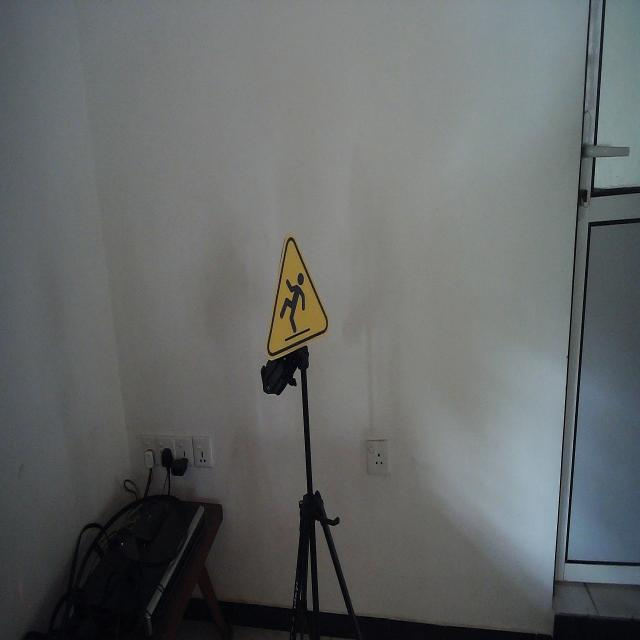slippery_sign: (263, 229, 331, 363)
